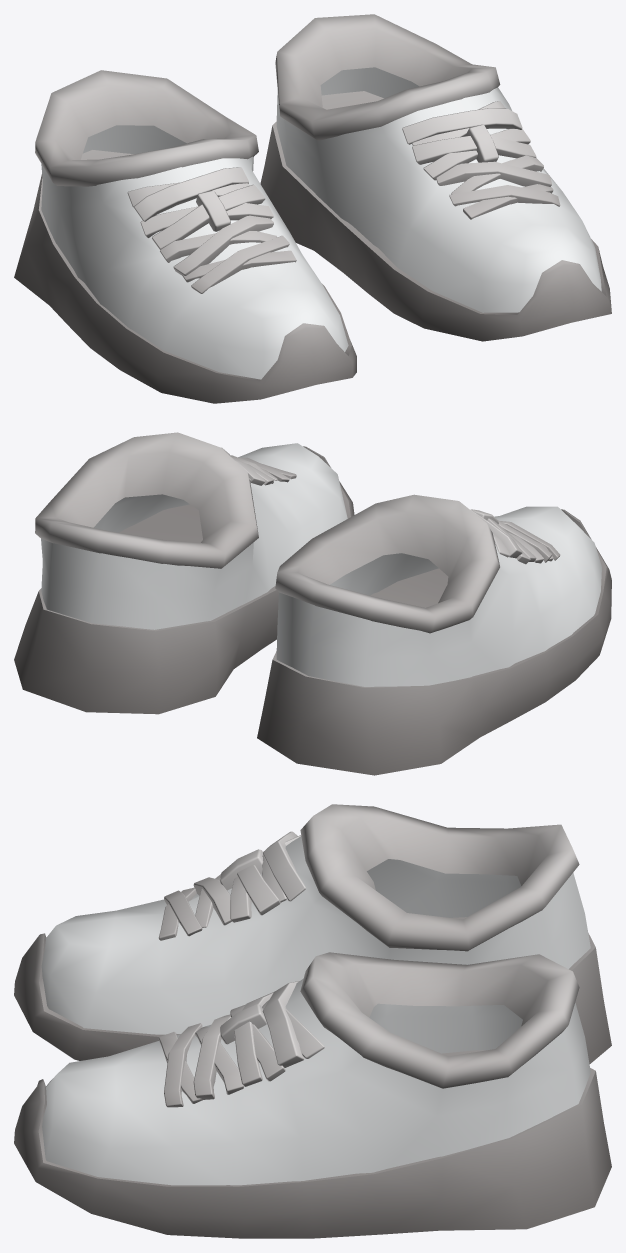
The model's file is Shoe_Sneakers_13.glb.
The picture shows the model from 3 angles, top to bottom: view 1: azimuth 30°, elevation 25°; view 2: azimuth 150°, elevation 25°; view 3: azimuth 270°, elevation 25°; orthographic projection. The views are drawn at different scales.
Visible parts, largest first — view 1: Shoe_Sneakers_13; view 2: Shoe_Sneakers_13; view 3: Shoe_Sneakers_13.
Part boxes in pixels (x1,y1,x2,y2): Shoe_Sneakers_13: (14, 14, 611, 403); Shoe_Sneakers_13: (14, 432, 611, 775); Shoe_Sneakers_13: (14, 804, 611, 1238).
Bounding box in the file's own units: 0.2579 × 0.0978 × 0.2461.
1 material, 1 textured.
